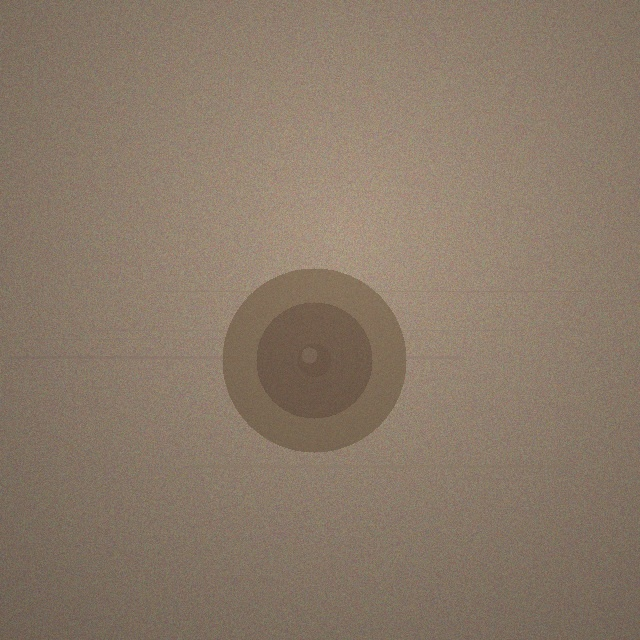good: (222, 268, 406, 452)
